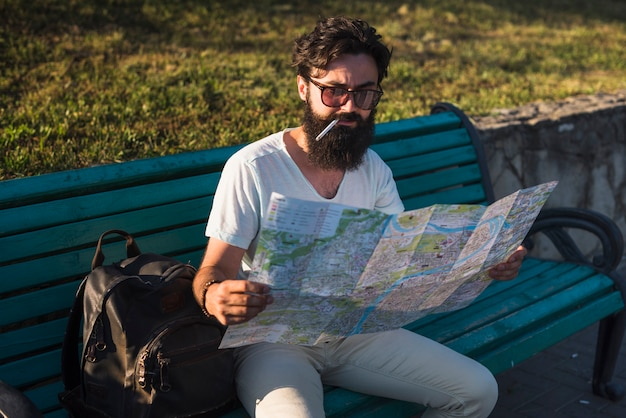cigarette: (315, 120, 340, 143)
